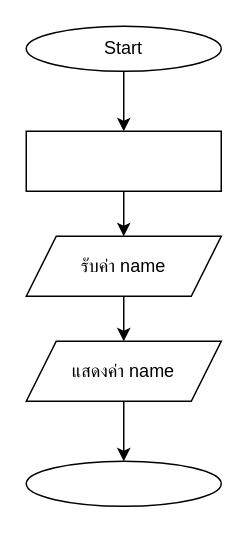
This 248x533 diagram has some shape labels left out. Here are the shapes that lost their labels. From the top down, the centre of each, then its label:
At point 123,160: "กำหนดตัวแปร name".
At point 123,483: "End".
